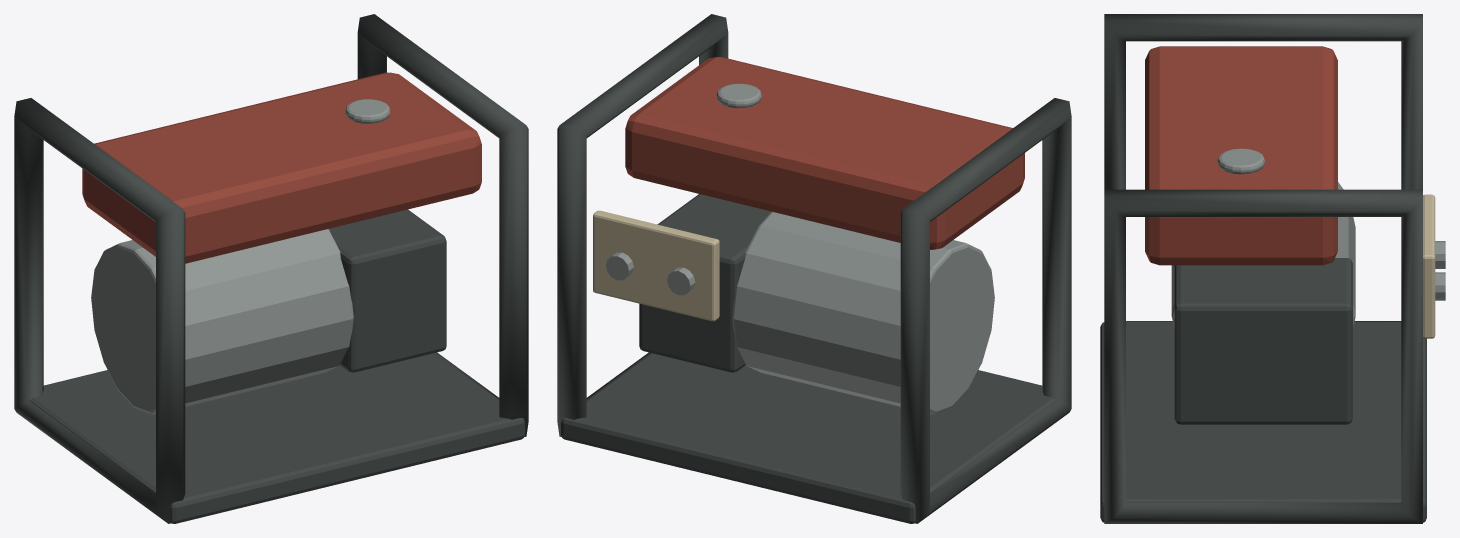
The model's file is portable_generator.gltf.
3 views of the same model, side by side, from view 1: azimuth 30°, elevation 25°; view 2: azimuth 150°, elevation 25°; view 3: azimuth 270°, elevation 25° (orthographic). The views are drawn at different scales.
Visible parts, largest first — view 1: portable_generator__dark_steel, portable_generator__paint_red, portable_generator__steel; view 2: portable_generator__dark_steel, portable_generator__paint_red, portable_generator__steel, portable_generator__paint_cream; view 3: portable_generator__dark_steel, portable_generator__paint_red, portable_generator__steel, portable_generator__paint_cream.
Boxes of the visible parts, x1=… form: portable_generator__dark_steel: x1=14, y1=14, x2=528, y2=523; portable_generator__paint_red: x1=82, y1=72, x2=481, y2=263; portable_generator__steel: x1=91, y1=99, x2=390, y2=414; portable_generator__dark_steel: x1=557, y1=14, x2=1071, y2=523; portable_generator__paint_red: x1=625, y1=57, x2=1024, y2=249; portable_generator__steel: x1=606, y1=83, x2=994, y2=414; portable_generator__paint_cream: x1=593, y1=210, x2=719, y2=321; portable_generator__dark_steel: x1=1100, y1=14, x2=1426, y2=523; portable_generator__paint_red: x1=1145, y1=46, x2=1337, y2=265; portable_generator__steel: x1=1171, y1=148, x2=1445, y2=328; portable_generator__paint_cream: x1=1423, y1=194, x2=1435, y2=338.
Bounding box in the file's own units: 3.04 × 2.44 × 2.32.
